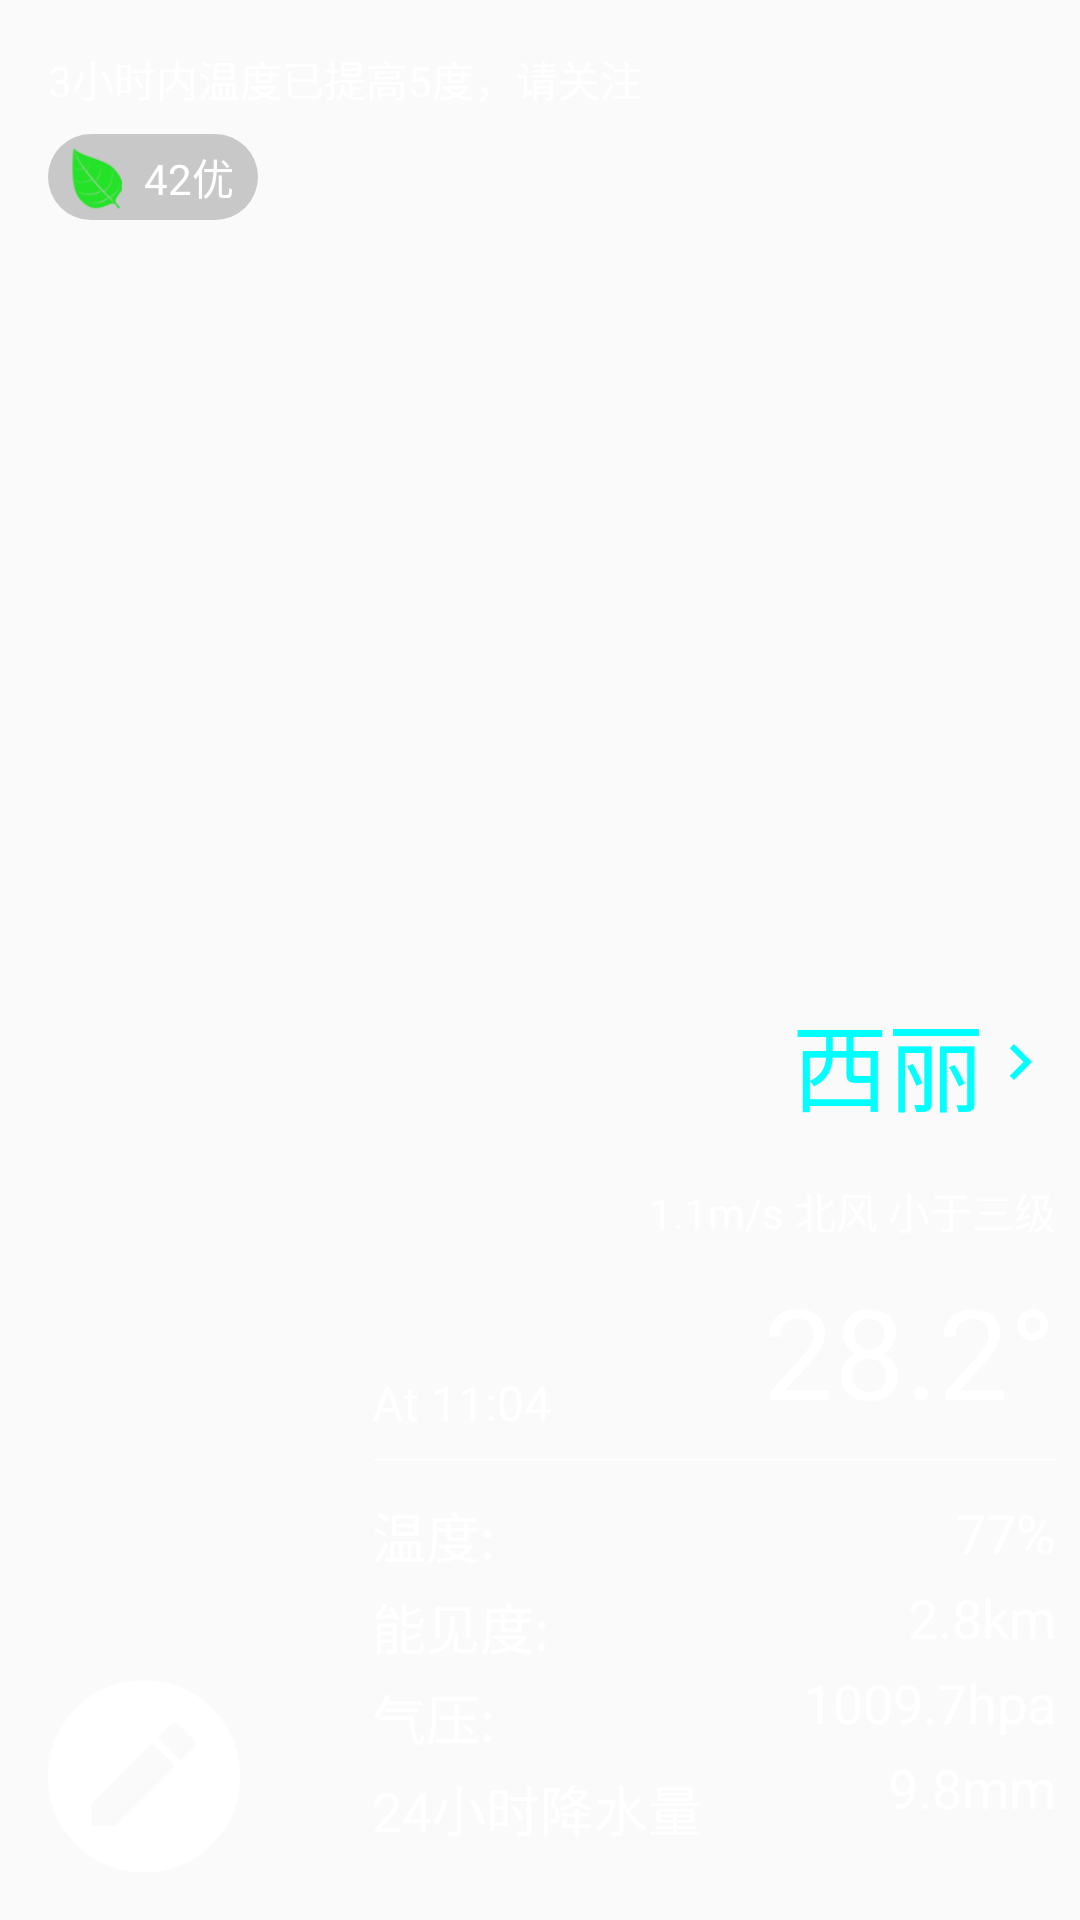

Named icons in this screenshot (1080w x 1920h) and their bounding boxes, bbox(x1, y1, x2, y2):
index leaf foliage leafage: bbox(72, 148, 122, 209)
